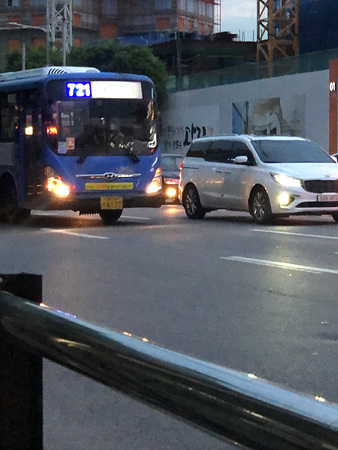bnum: (67, 80, 90, 97)
